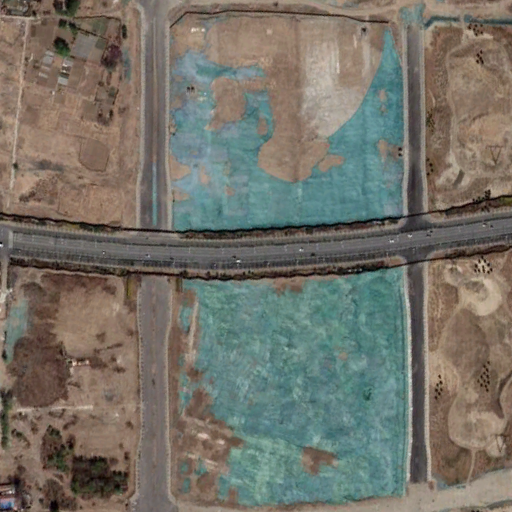cw: (176, 268, 406, 508), (167, 13, 408, 234)
